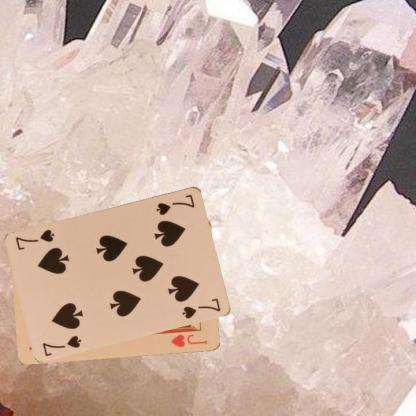7s: (154, 191, 196, 216), (40, 332, 82, 357)
